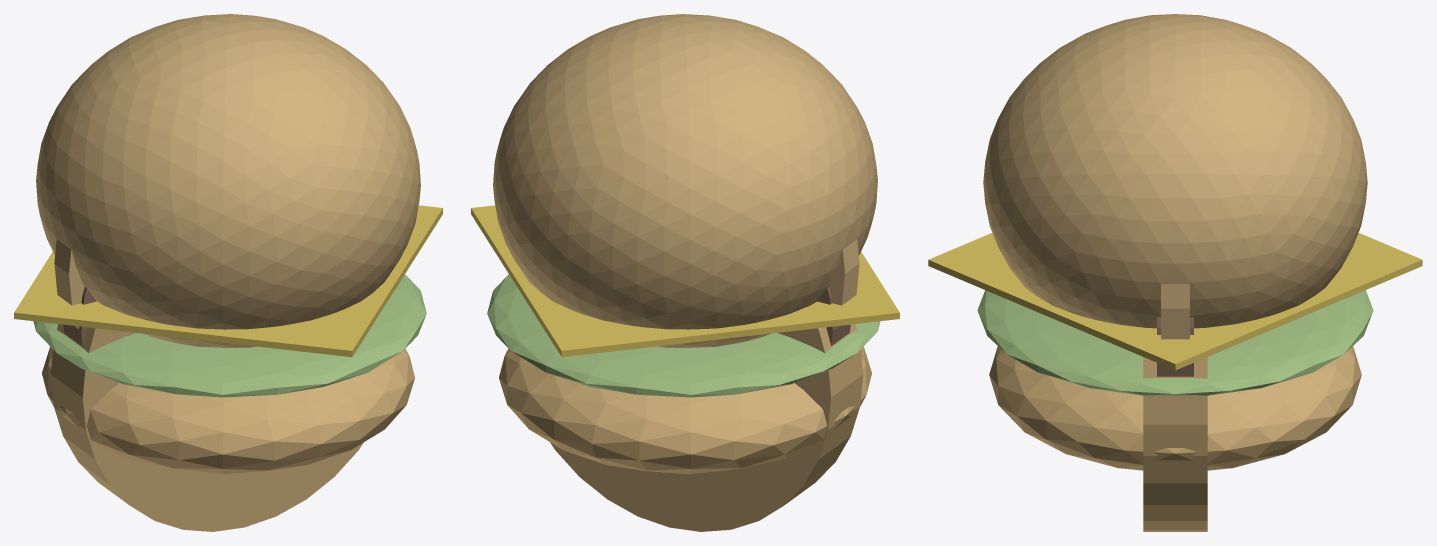
Rendered from burgerbite-placeholder.glb.
The picture shows the model from 3 angles, left to right: view 1: azimuth 30°, elevation 25°; view 2: azimuth 150°, elevation 25°; view 3: azimuth 270°, elevation 25°; orthographic projection.
Visible parts, largest first — view 1: BurgerBite_Placeholder_Burger; view 2: BurgerBite_Placeholder_Burger; view 3: BurgerBite_Placeholder_Burger.
Boxes of the visible parts, x1,y1,x2,y2 form: BurgerBite_Placeholder_Burger: (14, 14, 442, 531); BurgerBite_Placeholder_Burger: (471, 14, 899, 531); BurgerBite_Placeholder_Burger: (928, 14, 1422, 531).
Size of the model in its own units: 4.24 by 4.55 by 4.24.
